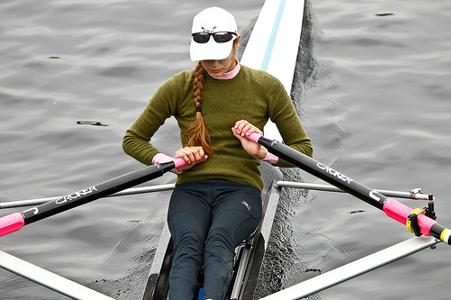person: (123, 7, 316, 300)
